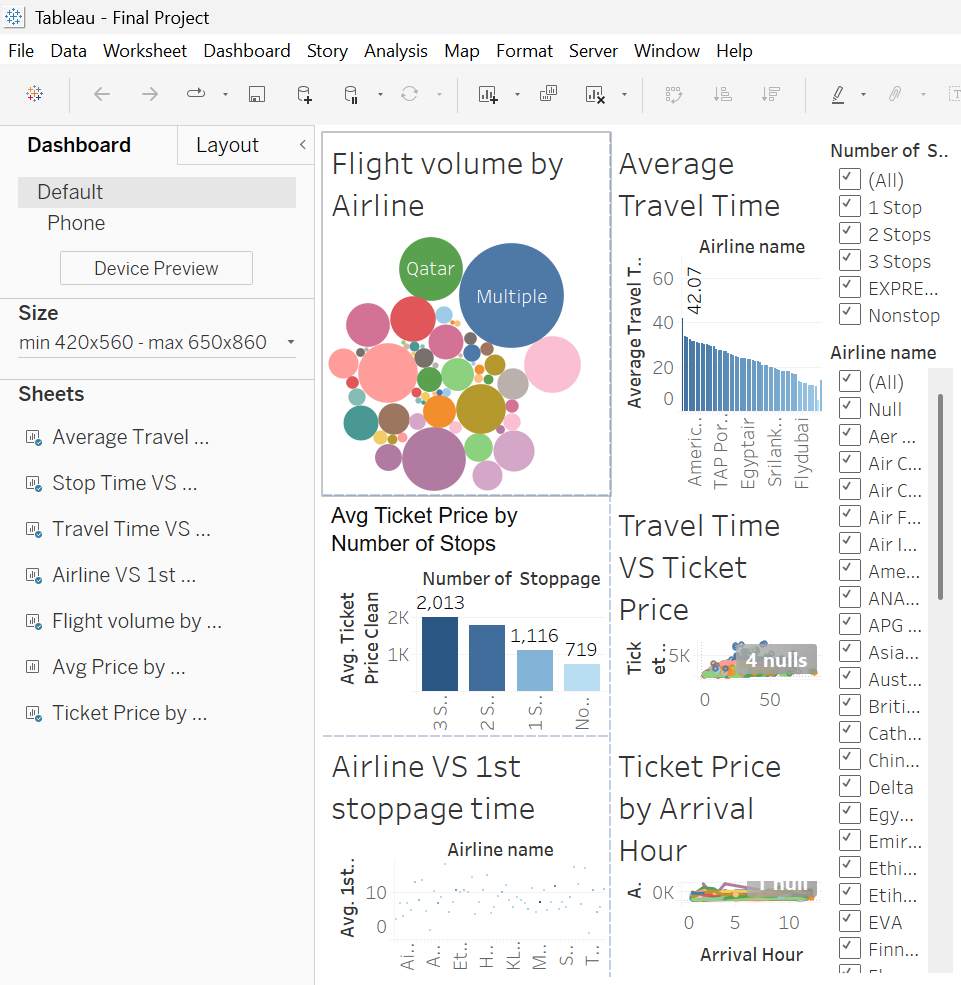

Layout of this report page (visuals, bound fields, positions):
{"tool":"tableau","page":{"name":"Airline Pricing and Performance Dashboard","canvas":[650,860],"ordinal":0},"visuals":[{"type":"worksheet","title":"Flight volume by Airline","mark":"Circle","box":[8,10.5,287.1,359.9]},{"type":"worksheet","title":"Average Travel Time ","mark":"Automatic","rows":["Calculation_1705949533522780161"],"cols":["Airline name"],"box":[295.1,10.5,215.9,359.9]},{"type":"filter","title":"Stop Time VS Price","param":"[federated.0gwxlm209j0tdh1fhvput1ty5uyh].[none:Number of  Stoppage:nk]","box":[511,10.5,131,190.8]},{"type":"filter","title":"Flight volume by Airline","param":"[federated.0gwxlm209j0tdh1fhvput1ty5uyh].[none:Airline name:nk]","box":[511,201.3,131,648.3]},{"type":"worksheet","title":"Stop Time VS Price","mark":"Automatic","rows":["Calculation_1705949533522587648"],"cols":["Number of  Stoppage"],"box":[8,370.4,287.1,239.6]},{"type":"worksheet","title":"Travel Time VS Ticket Price","mark":"Automatic","rows":["Calculation_1705949533522587648"],"cols":["Travel time in hours"],"box":[295.1,370.4,215.9,239.6]},{"type":"worksheet","title":"Airline VS 1st stoppage time","mark":"Square","rows":["1st stoppage waiting time total"],"cols":["Airline name"],"box":[8,610,287.1,239.6]},{"type":"worksheet","title":"Ticket Price by Arrival Hour","mark":"Line","rows":["Calculation_1705949533522587648"],"cols":["Calculation_1705949533535088645"],"box":[295.1,610,215.9,239.6]}]}

Visuals, with their boxes on the page's 650x860 design canvas (x1, y1, x2, y2). These are canvas units, not pixel positions in the 961x985 screenshot, which may show the page scaled, cropped or inside an application window:
"Flight volume by Airline" worksheet (Circle marks): (8, 10, 295, 370)
"Average Travel Time " worksheet: (295, 10, 511, 370)
"Stop Time VS Price" filter: (511, 10, 642, 201)
"Flight volume by Airline" filter: (511, 201, 642, 850)
"Stop Time VS Price" worksheet: (8, 370, 295, 610)
"Travel Time VS Ticket Price" worksheet: (295, 370, 511, 610)
"Airline VS 1st stoppage time" worksheet (Square marks): (8, 610, 295, 850)
"Ticket Price by Arrival Hour" worksheet (Line marks): (295, 610, 511, 850)
